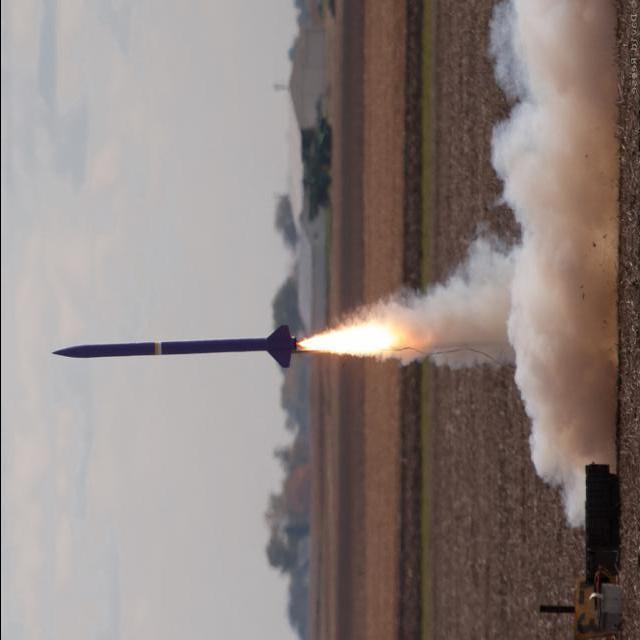Missile: (51, 321, 298, 360)
